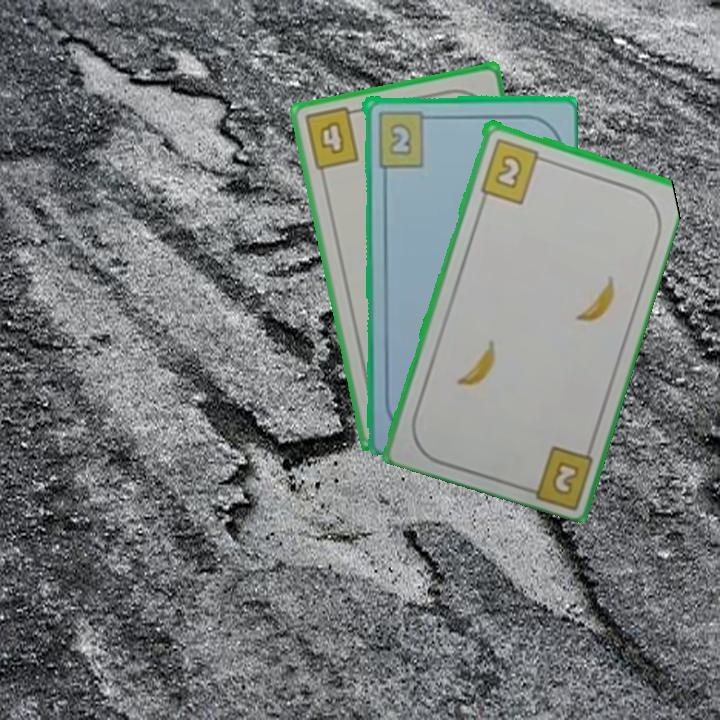2b: (477, 134, 550, 206), (374, 108, 435, 169), (548, 457, 582, 498)
4b: (300, 104, 364, 173)
